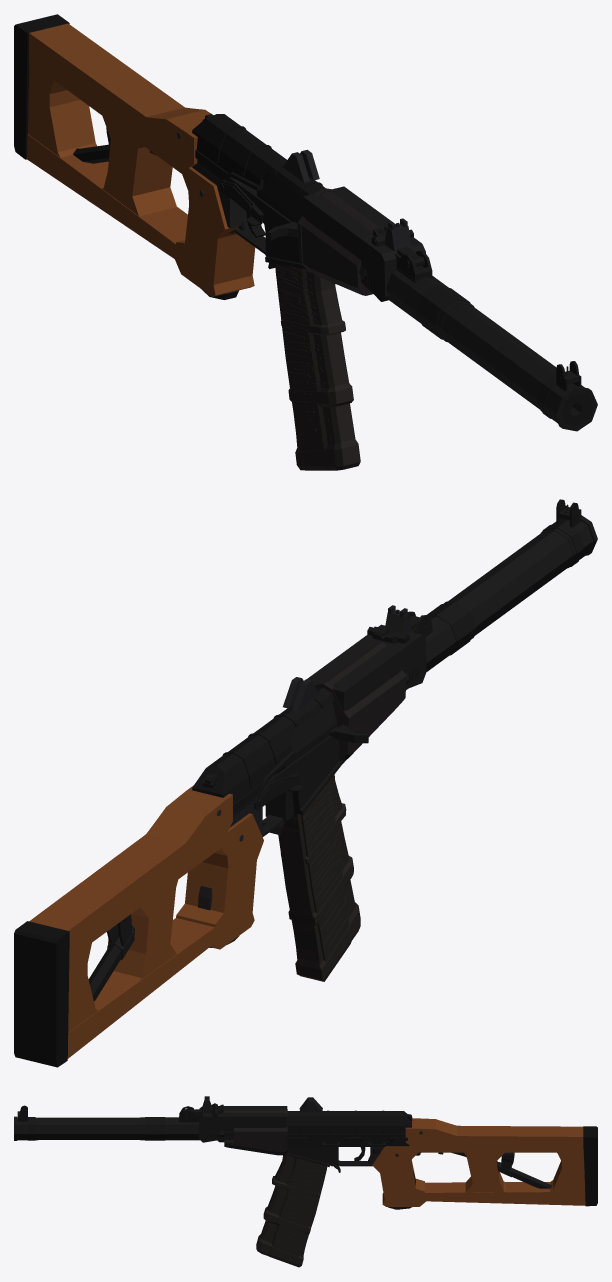
Rendered from val.glb.
3 views of the same model, one above another, from view 1: azimuth 30°, elevation 25°; view 2: azimuth 150°, elevation 25°; view 3: azimuth 270°, elevation 25° (orthographic). The views are drawn at different scales.
Visible parts, largest first — view 1: part_0.002, WoodTop_0, body, WoodGrip_4, Val_Mag_30, WoodBottom_1, Handguard_0, part_0.001, WoodMid_3, WoodRear_2, Val_Mag_10, Pad_6 (+4 smaller); view 2: part_0.002, WoodTop_0, body, Pad_6, Val_Mag_30, WoodGrip_4, WoodBottom_1, Handguard_0, WoodMid_3, part_0.001, part_0, part_0.003 (+3 smaller); view 3: part_0.002, body, WoodTop_0, Val_Mag_30, WoodBottom_1, WoodGrip_4, Handguard_0, part_0.001, WoodMid_3, WoodRear_2, Pad_6, part_0.003 (+1 smaller).
Boxes of the visible parts, x1,y1,x2,y2 form: part_0.002: (297,188,597,431); WoodTop_0: (29,23,211,173); body: (192,114,325,268); WoodGrip_4: (175,167,255,296); Val_Mag_30: (277,268,360,470); WoodBottom_1: (27,134,187,258); Handguard_0: (303,186,425,301); part_0.001: (275,264,353,406); WoodMid_3: (102,116,176,216); WoodRear_2: (28,63,96,157); Val_Mag_10: (275,263,345,335); Pad_6: (14,14,69,159); part_0.002: (314,499,597,763); WoodTop_0: (29,785,232,958); body: (192,688,342,836); Pad_6: (14,921,69,1067); Val_Mag_30: (275,773,360,981); WoodGrip_4: (176,813,263,949); WoodBottom_1: (67,918,215,1058); Handguard_0: (307,624,426,759); WoodMid_3: (107,880,177,980); part_0.001: (283,778,353,925); part_0: (277,702,368,773); part_0.003: (88,886,238,1001); part_0.002: (14,1103,287,1155); body: (287,1110,420,1167); WoodTop_0: (405,1118,583,1152); Val_Mag_30: (256,1155,326,1267); WoodBottom_1: (425,1182,585,1205); WoodGrip_4: (372,1146,426,1206); Handguard_0: (198,1106,287,1152); part_0.001: (263,1155,326,1234); WoodMid_3: (464,1152,505,1192); WoodRear_2: (550,1149,585,1191); Pad_6: (583,1126,597,1206); part_0.003: (382,1138,584,1209).
Bounding box in the file's own units: 0.072 × 0.2784 × 0.888.
